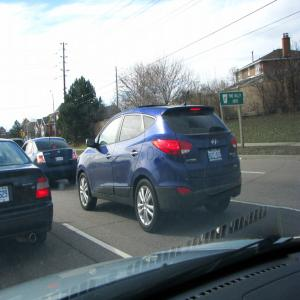Vehicle-registration-plate: (207, 148, 223, 164), (1, 186, 11, 203), (56, 157, 65, 163)
